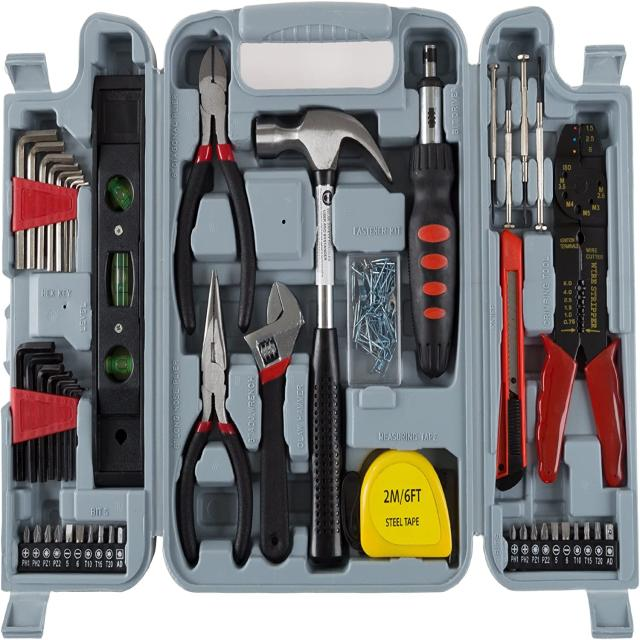Screwdriver: (409, 43, 458, 378)
